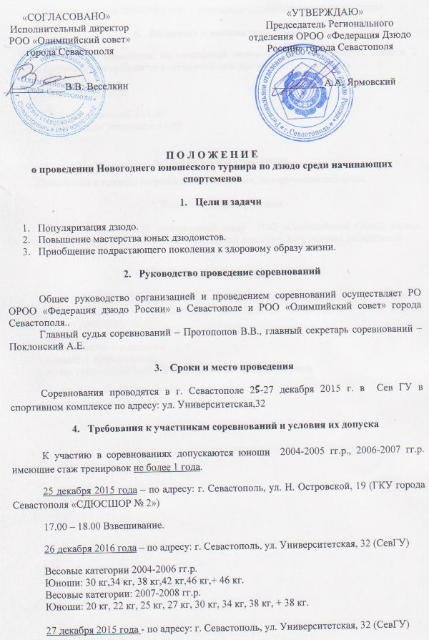stamp: (256, 45, 354, 141), (7, 41, 103, 137)
